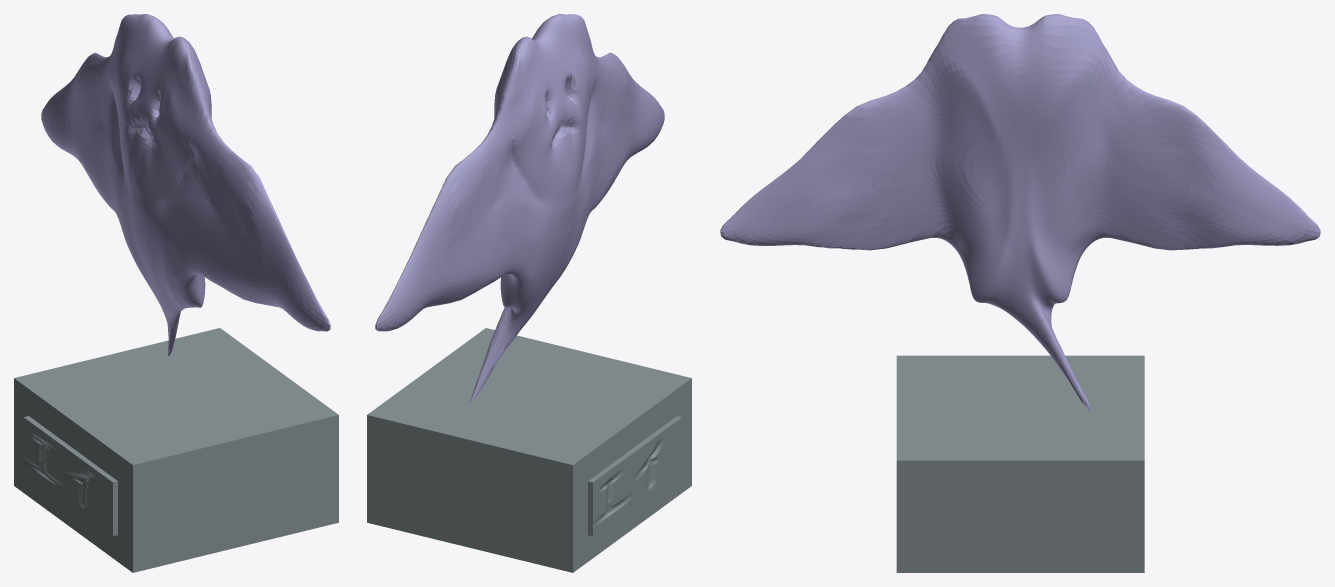
The model's file is Stingray.fbx.
3 views of the same model, side by side, from view 1: azimuth 30°, elevation 25°; view 2: azimuth 150°, elevation 25°; view 3: azimuth 270°, elevation 25° (orthographic). The views are drawn at different scales.
Visible parts, largest first — view 1: 立方体.003, 立方体.005, 立方体.004; view 2: 立方体.003, 立方体.005, 立方体.004; view 3: 立方体.005, 立方体.003.
Boxes of the visible parts, box(x1,y1,x2,y2) form: 立方体.003: box(14, 328, 338, 572); 立方体.005: box(41, 14, 330, 355); 立方体.004: box(23, 416, 117, 536); 立方体.003: box(367, 328, 691, 572); 立方体.005: box(375, 14, 664, 404); 立方体.004: box(588, 416, 682, 536); 立方体.005: box(720, 14, 1320, 411); 立方体.003: box(896, 355, 1144, 572).
Size of the model in its own units: 410 by 890 by 968.
